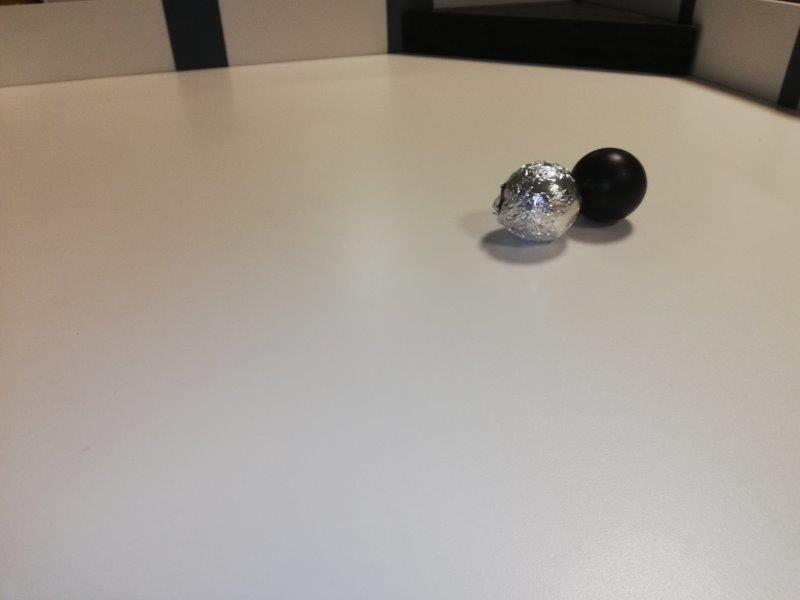bianca: (498, 161, 581, 240)
nera: (571, 147, 645, 225)
